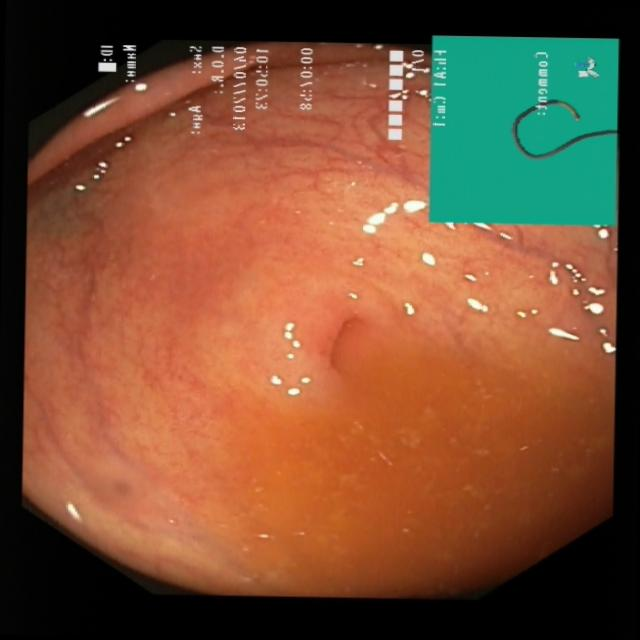normal-cecum: (212, 327, 614, 596)
